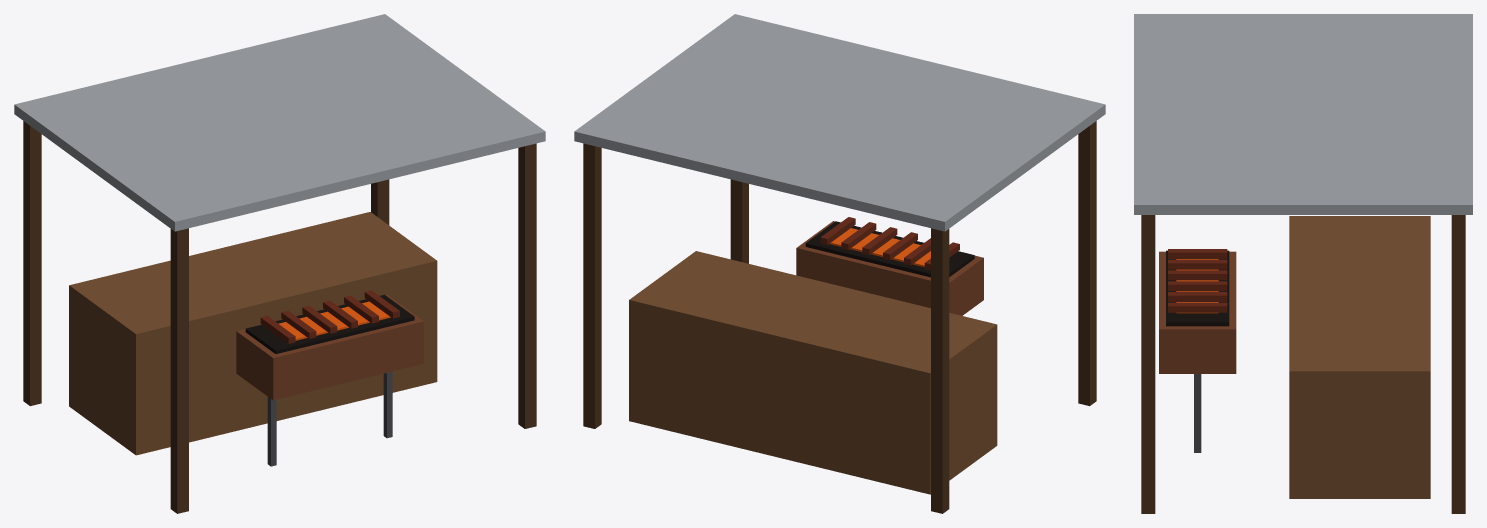
Rendered from suya_kiosk.glb.
3 renders of one model, left to right at view 1: azimuth 30°, elevation 25°; view 2: azimuth 150°, elevation 25°; view 3: azimuth 270°, elevation 25°, orthographic. The views are drawn at different scales.
Parts seen in each view (by area): view 1: suya_kiosk; view 2: suya_kiosk; view 3: suya_kiosk.
Part boxes in pixels (x1,y1,x2,y2): suya_kiosk: (14, 14, 545, 513); suya_kiosk: (574, 14, 1105, 513); suya_kiosk: (1134, 14, 1472, 513).
Bounding box in the file's own units: 3.2 × 2.44 × 2.4.
